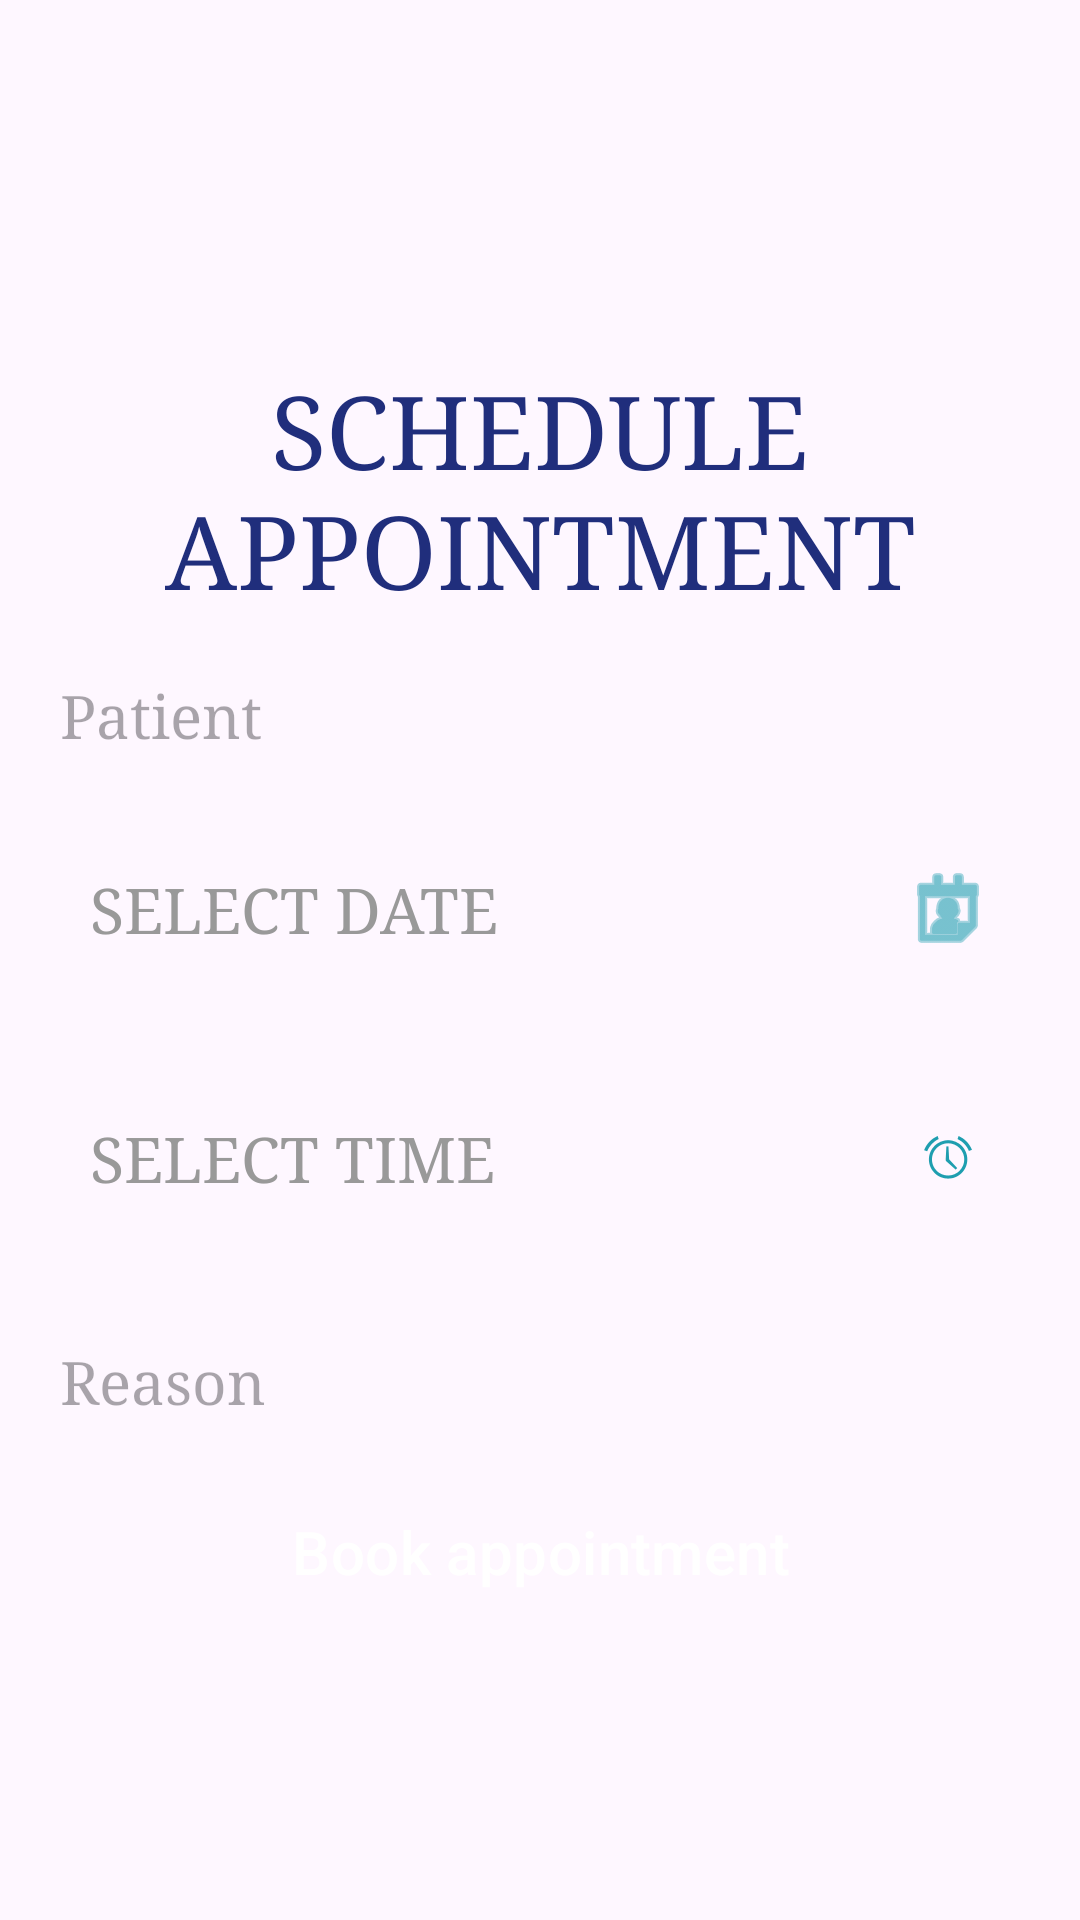

Where to tap for icons on this 1080 x 1920 app screen, as point (x, y):
lock idle alarm: point (948, 1157)
Pick a date: point (948, 908)
